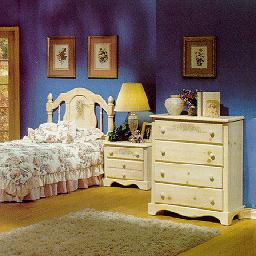Armario: (156, 118, 242, 220)
Cama: (2, 130, 90, 206)
